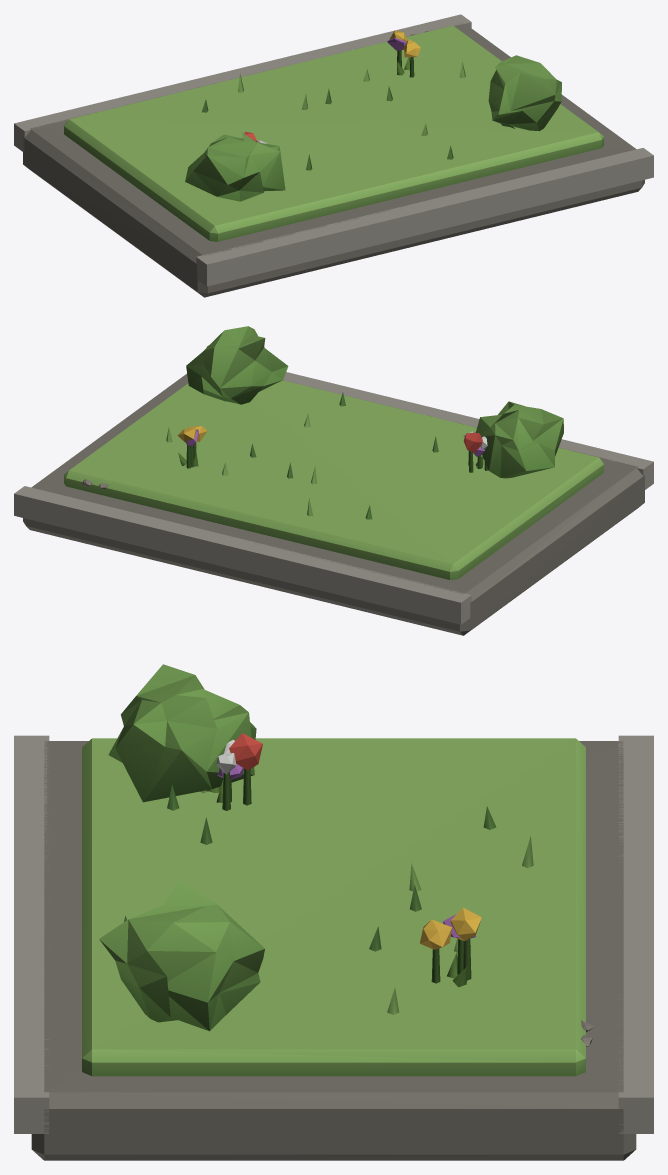
File: green_roof_01.glb
3 views of the same model, one above another, from view 1: azimuth 30°, elevation 25°; view 2: azimuth 150°, elevation 25°; view 3: azimuth 270°, elevation 25° (orthographic). The views are drawn at different scales.
Parts seen in each view (by area): view 1: green_roof_01; view 2: green_roof_01; view 3: green_roof_01.
Part boxes in pixels (<box>): green_roof_01: <box>14,14,653,297</box>; green_roof_01: <box>14,326,653,635</box>; green_roof_01: <box>14,664,653,1160</box>.
Size of the model in its own units: 3.4 by 0.8652 by 2.54.
